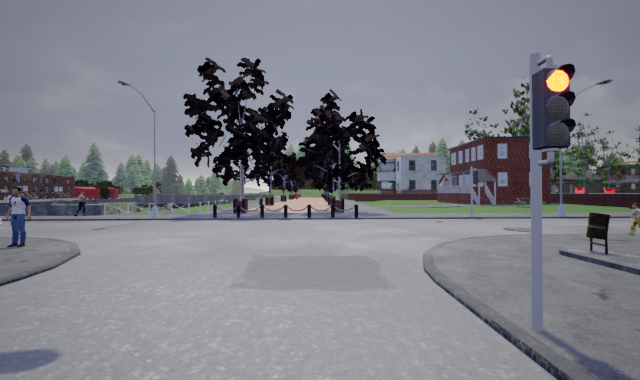pedestrian: (1, 184, 40, 247), (626, 198, 639, 237), (72, 189, 89, 216), (163, 199, 174, 216)
traffic_light: (531, 63, 576, 152)
